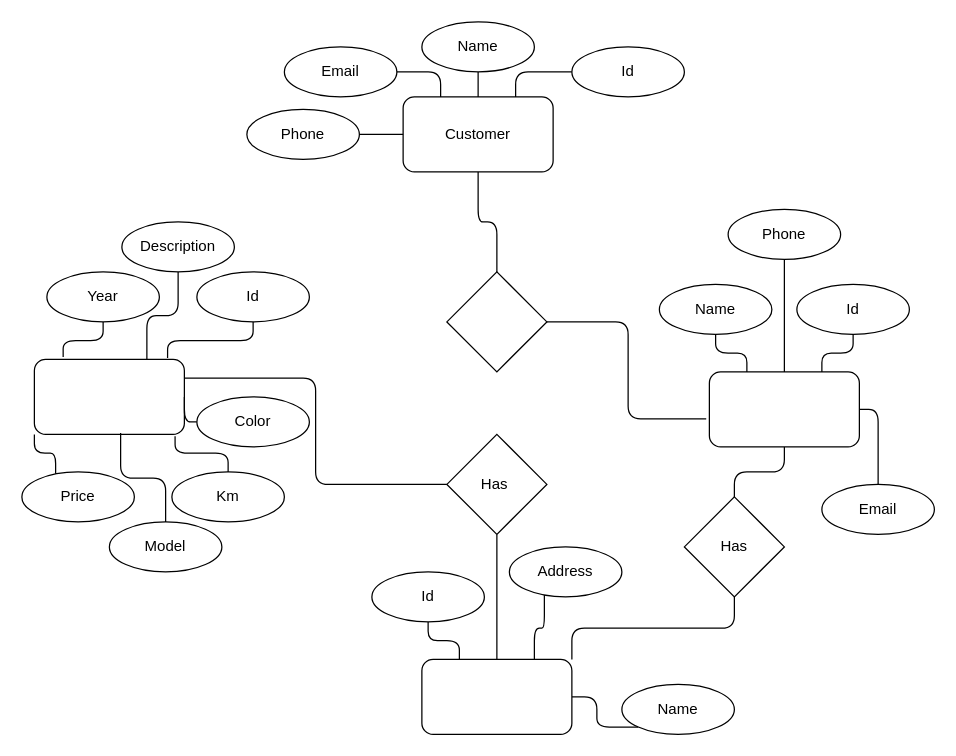
This 956x756 diagram has some shape labels left out. Here are the shapes that lost their labels. From the top down, the box of each, then its label:
(446, 271, 547, 372): Sells to
(33, 358, 184, 434): Car
(708, 371, 859, 447): Seller
(421, 658, 572, 734): Cardealership
